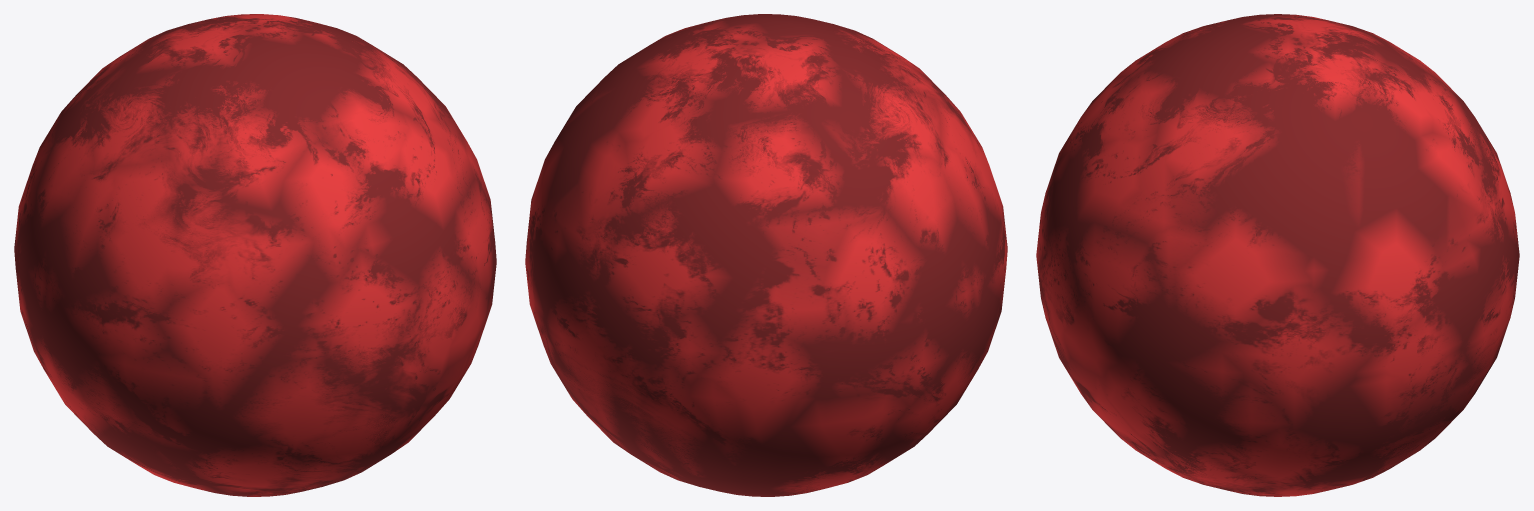
The picture shows the model from 3 angles, left to right: view 1: azimuth 30°, elevation 25°; view 2: azimuth 150°, elevation 25°; view 3: azimuth 270°, elevation 25°; orthographic projection.
Visible parts, largest first — view 1: GJ238_b; view 2: GJ238_b; view 3: GJ238_b.
Part boxes in pixels (left/top/right/bottom): GJ238_b: left=14, top=14, right=496, bottom=496; GJ238_b: left=525, top=14, right=1007, bottom=496; GJ238_b: left=1036, top=14, right=1519, bottom=496.
Bounding box in the file's own units: 205 × 205 × 205.
Materials: 1 (1 with a texture image).
